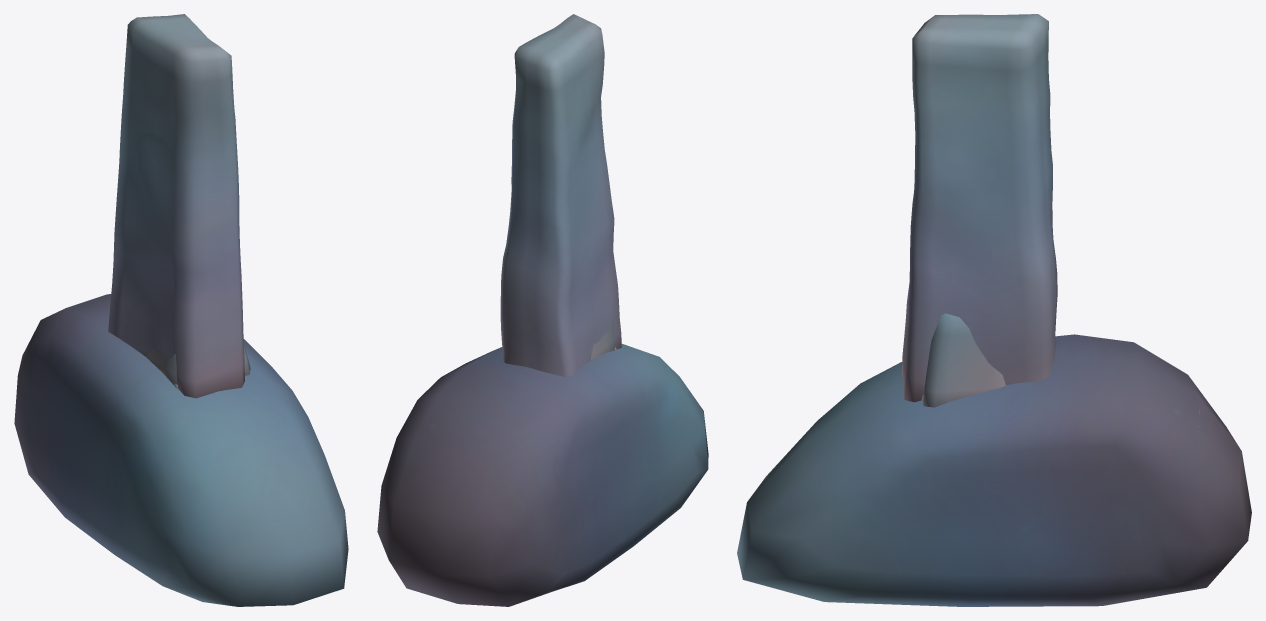
Rendered from River_rock.fbx.
3 views of the same model, side by side, from view 1: azimuth 30°, elevation 25°; view 2: azimuth 150°, elevation 25°; view 3: azimuth 270°, elevation 25° (orthographic). The views are drawn at different scales.
Parts seen in each view (by area): view 1: RR_Entrance, River_Rock_Long, River_Rock; view 2: RR_Entrance, River_Rock_Long, River_Rock; view 3: RR_Entrance, River_Rock_Long, River_Rock.
Part boxes in pixels (x1,y1,x2,y2): RR_Entrance: (14, 294, 348, 606); River_Rock_Long: (108, 14, 244, 398); River_Rock: (146, 342, 250, 385); RR_Entrance: (377, 344, 708, 606); River_Rock_Long: (500, 14, 621, 376); River_Rock: (591, 319, 615, 359); RR_Entrance: (737, 334, 1251, 606); River_Rock_Long: (902, 14, 1057, 402); River_Rock: (923, 313, 1005, 407).
Size of the model in its own units: 551 by 1641 by 1370.
